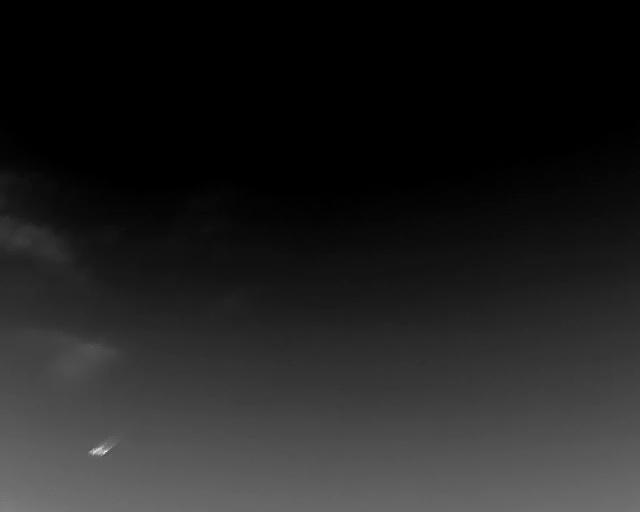fpv-drone: (88, 438, 116, 456)
